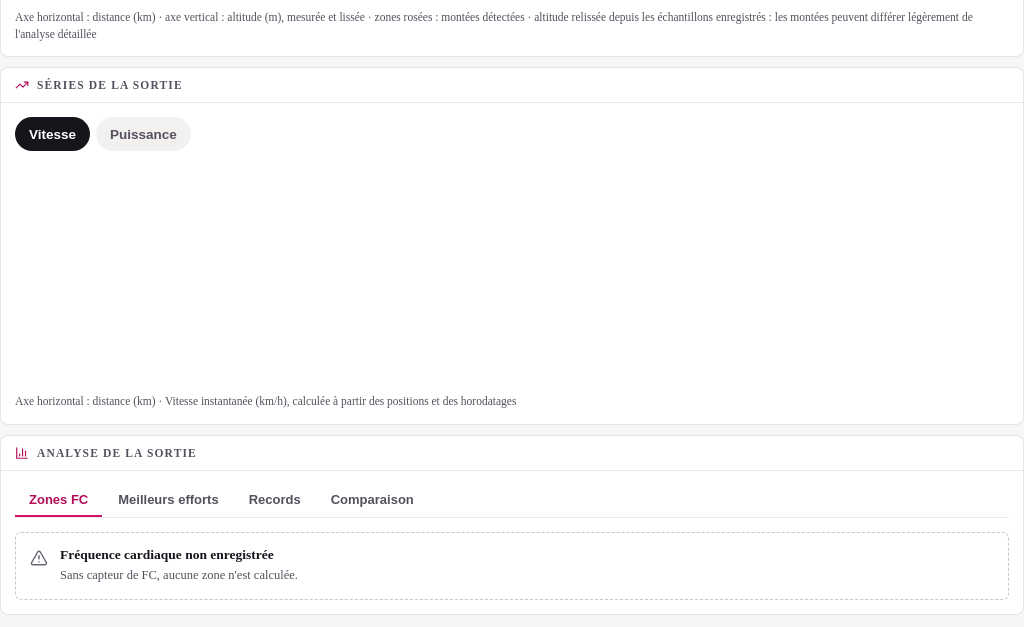
Scenario: CockpitDashboard — analyse › meilleurs efforts : indisponibles quand la sortie est trop courte
(page scrolled)
Click the tab "Meilleurs efforts" at (168, 500), box top-left (104, 484), bottom-right (233, 517)
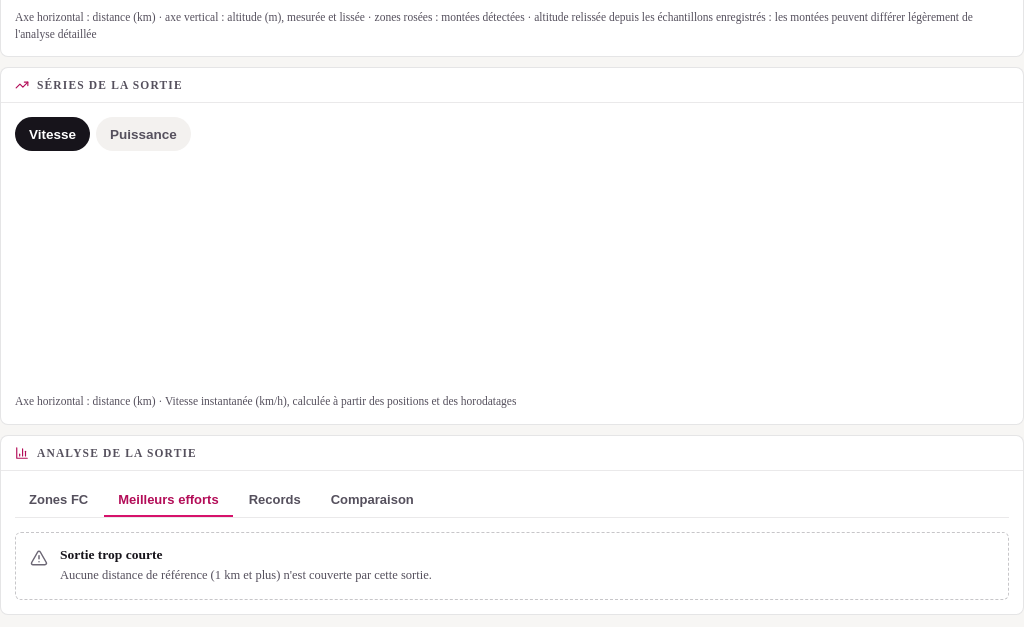
Result: the text "Sortie trop courte" is shown at top-left (60, 547), bottom-right (162, 562)
